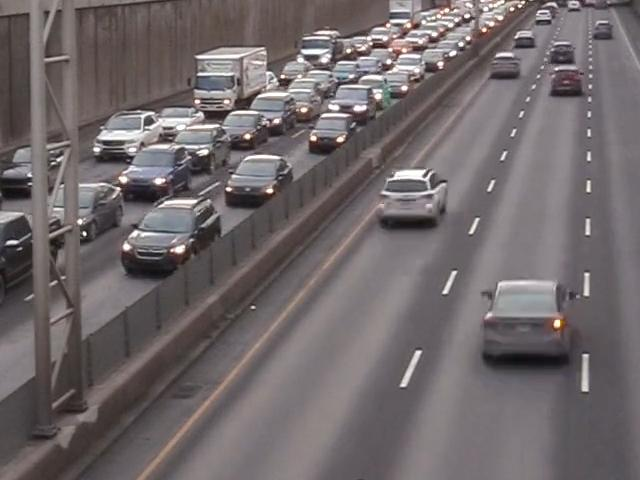car: (483, 272, 582, 368), (123, 202, 221, 281), (0, 210, 69, 310), (44, 181, 124, 246), (372, 168, 457, 229), (0, 137, 69, 195), (117, 150, 194, 200), (91, 111, 164, 161), (224, 157, 295, 207), (169, 123, 231, 172), (216, 109, 273, 154), (246, 91, 299, 135), (328, 85, 380, 127), (306, 113, 358, 154), (154, 106, 208, 142), (284, 87, 331, 123), (382, 59, 423, 88), (388, 41, 426, 72), (304, 68, 343, 98), (548, 66, 585, 97), (349, 57, 388, 86), (420, 45, 458, 73), (278, 60, 316, 87), (430, 33, 468, 60), (490, 52, 522, 80), (414, 22, 449, 47), (42, 140, 72, 167), (385, 30, 420, 53), (340, 37, 373, 59), (429, 4, 461, 26), (548, 41, 576, 65), (367, 25, 395, 48), (451, 3, 476, 26), (474, 18, 498, 37), (513, 29, 536, 48), (593, 18, 614, 38), (534, 8, 552, 25), (544, 0, 564, 13), (589, 0, 609, 9), (565, 0, 580, 11), (506, 0, 529, 5), (577, 0, 602, 4)
truck: (176, 38, 270, 113), (387, 0, 420, 21), (430, 0, 457, 7)
van: (297, 33, 340, 69), (311, 26, 350, 53)
